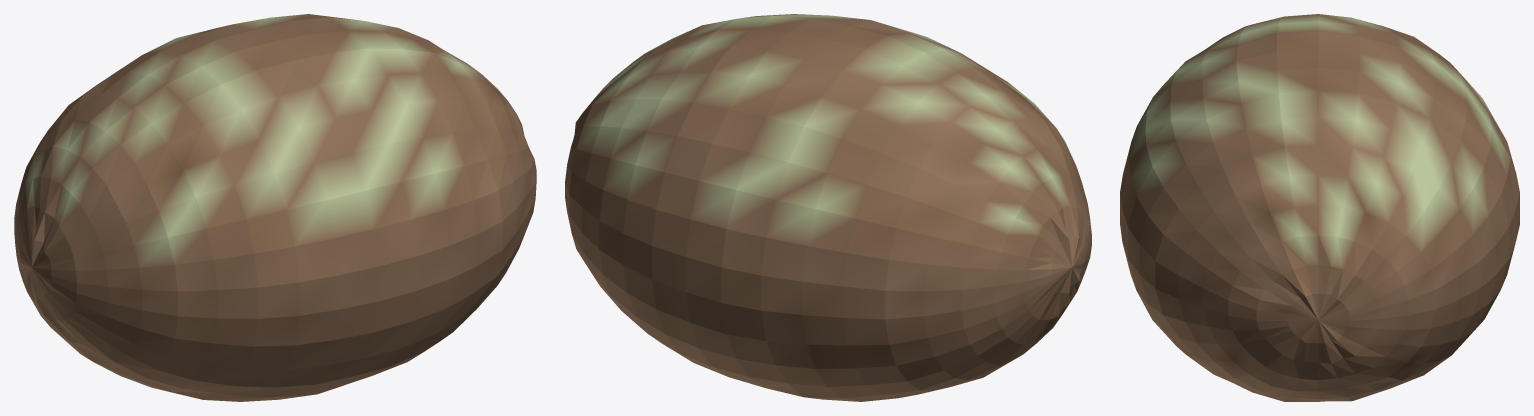
The model's file is dujjon.glb.
3 renders of one model, left to right at view 1: azimuth 30°, elevation 25°; view 2: azimuth 150°, elevation 25°; view 3: azimuth 270°, elevation 25°, orthographic. The views are drawn at different scales.
Parts seen in each view (by area): view 1: dujjon; view 2: dujjon; view 3: dujjon.
Boxes of the visible parts, <box> form: dujjon: <box>14,14,536,401</box>; dujjon: <box>565,14,1091,401</box>; dujjon: <box>1120,14,1519,401</box>.
Bounding box in the file's own units: 0.9192 × 0.6061 × 0.6893.
